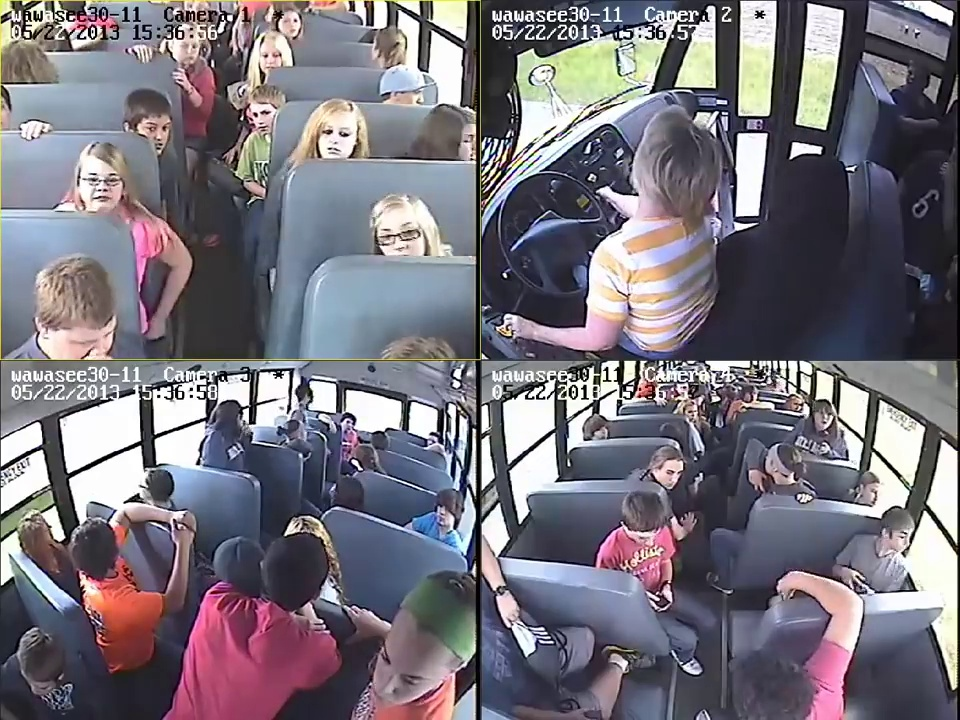face: (365, 637, 425, 704), (46, 319, 114, 359), (374, 208, 423, 260), (77, 155, 123, 205), (319, 118, 360, 157), (133, 119, 170, 150), (453, 124, 478, 162), (258, 42, 288, 73), (628, 522, 661, 547), (249, 99, 272, 134), (172, 41, 198, 66), (659, 461, 681, 488), (24, 676, 51, 696), (892, 527, 913, 552), (812, 407, 834, 429), (279, 16, 302, 37), (585, 423, 608, 439), (435, 505, 454, 524), (866, 480, 881, 503), (680, 407, 699, 422), (342, 418, 354, 440), (790, 399, 803, 414)
